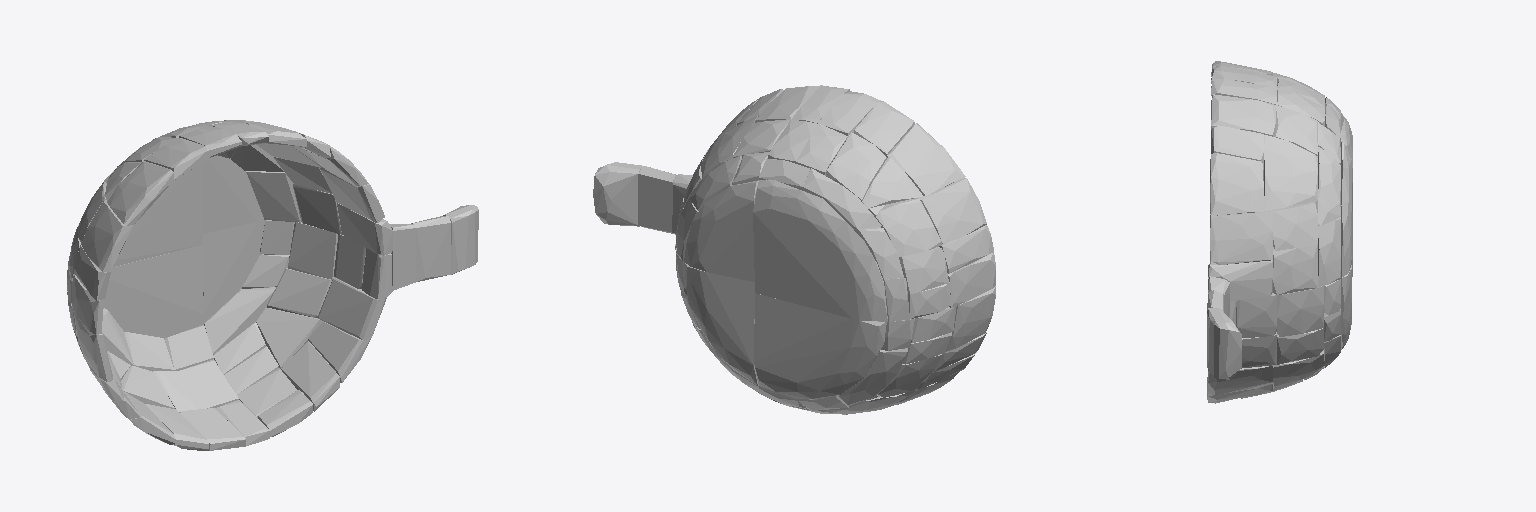
3 views of the same model, side by side, from view 1: azimuth 30°, elevation 25°; view 2: azimuth 150°, elevation 25°; view 3: azimuth 270°, elevation 25° (orthographic).
Visible parts, largest first — view 1: convex_3, convex_4, convex_5, convex_6, convex_25, convex_55, convex_7, convex_22, convex_65, convex_24, convex_2, convex_23 (+28 smaller); view 2: convex_4, convex_3, convex_5, convex_6, convex_55, convex_19, convex_0, convex_51, convex_54, convex_2, convex_17, convex_56 (+28 smaller); view 3: convex_34, convex_31, convex_70, convex_0, convex_33, convex_28, convex_24, convex_29, convex_30, convex_67, convex_27, convex_69 (+12 smaller).
Boxes of the visible parts, x1,y1,x2,y2 form: convex_3: [104, 245, 203, 338]; convex_4: [113, 162, 203, 266]; convex_5: [203, 220, 264, 322]; convex_6: [203, 155, 263, 233]; convex_25: [317, 277, 386, 339]; convex_55: [107, 161, 173, 225]; convex_7: [204, 287, 275, 354]; convex_22: [256, 308, 323, 368]; convex_65: [281, 340, 339, 411]; convex_24: [288, 222, 337, 279]; convex_2: [411, 216, 450, 281]; convex_23: [267, 268, 331, 317]; convex_4: [753, 179, 887, 321]; convex_3: [754, 293, 886, 399]; convex_5: [684, 262, 758, 385]; convex_6: [684, 180, 758, 281]; convex_55: [887, 123, 965, 195]; convex_19: [918, 177, 986, 243]; convex_0: [593, 162, 642, 226]; convex_51: [876, 198, 941, 256]; convex_54: [826, 132, 886, 203]; convex_2: [638, 166, 676, 233]; convex_17: [803, 168, 881, 229]; convex_56: [854, 101, 914, 156]; convex_34: [1264, 135, 1317, 211]; convex_31: [1210, 211, 1272, 264]; convex_70: [1210, 153, 1263, 215]; convex_0: [1207, 308, 1241, 379]; convex_33: [1211, 94, 1275, 136]; convex_28: [1273, 242, 1317, 294]; convex_24: [1277, 286, 1323, 336]; convex_29: [1273, 201, 1317, 250]; convex_30: [1208, 260, 1272, 300]; convex_67: [1236, 293, 1276, 337]; convex_27: [1318, 147, 1340, 225]; convex_69: [1211, 125, 1263, 169].
Size of the model in its own units: 0.1616 by 0.1217 by 0.0525.